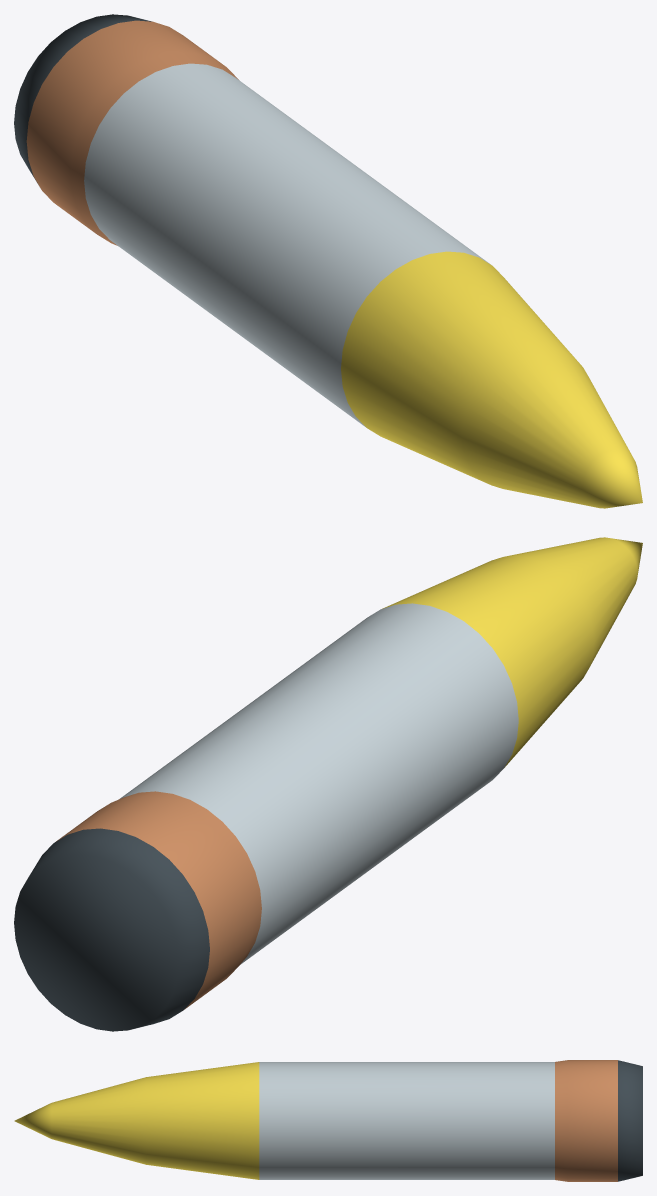
File: howitzer_155_projectile_display.glb
3 renders of one model, top to bottom at view 1: azimuth 30°, elevation 25°; view 2: azimuth 150°, elevation 25°; view 3: azimuth 270°, elevation 25°, orthographic. The views are drawn at different scales.
Visible parts, largest first — view 1: AMMO_MESH.049; view 2: AMMO_MESH.049; view 3: AMMO_MESH.049.
Boxes of the visible parts, x1,y1,x2,y2 form: AMMO_MESH.049: [14, 14, 642, 508]; AMMO_MESH.049: [14, 537, 642, 1031]; AMMO_MESH.049: [14, 1060, 642, 1181].
Size of the model in its own units: 0.155 by 0.155 by 0.8.
